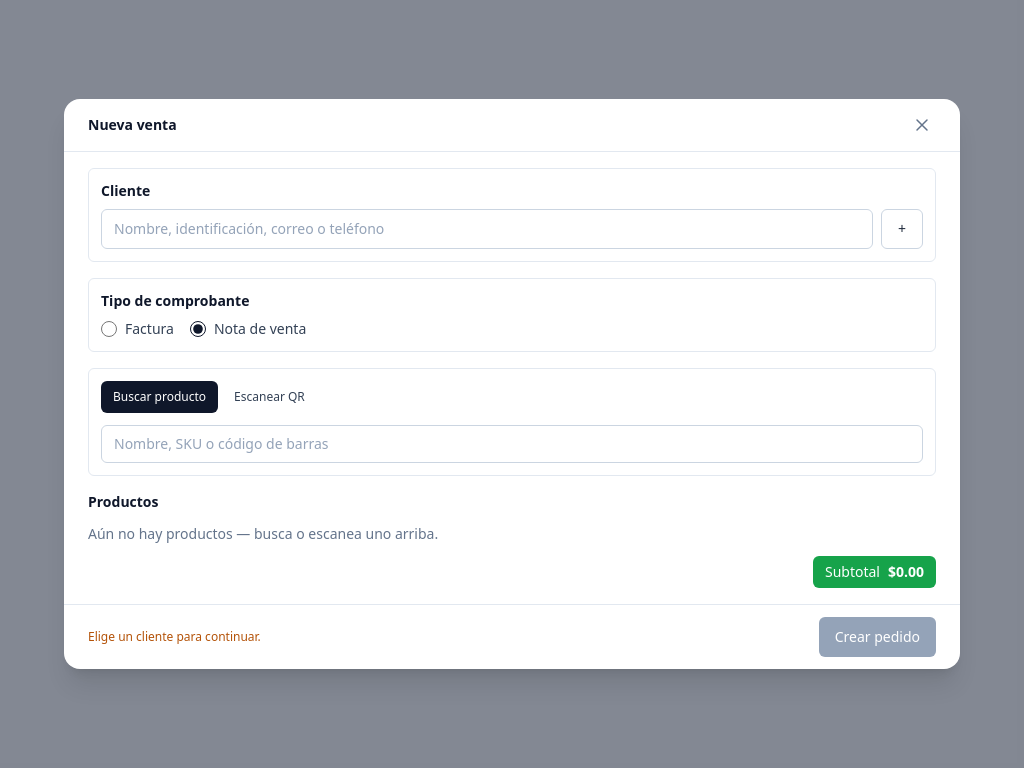
Test: ProductCartModal › cliente › the "+" button also opens "Crear nuevo cliente", prefilled with whatever is already typed
Type "0999999999" into the search field named "buscar cliente" at (487, 229), box [101,209,873,249]
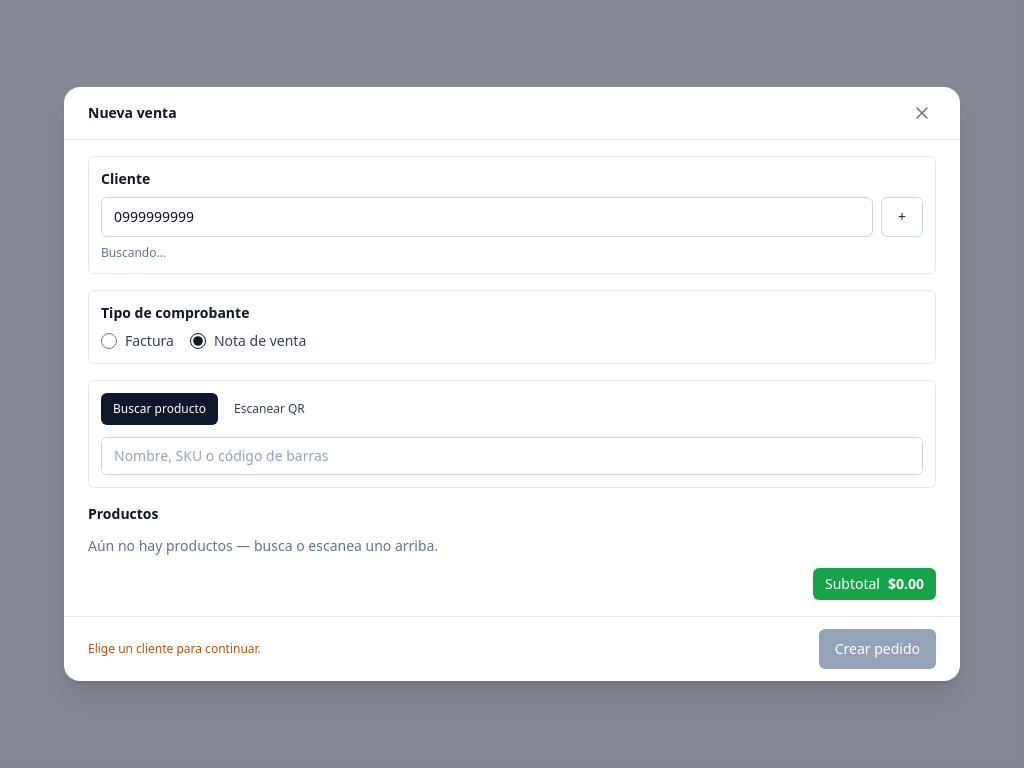
Click the button named "crear cliente nuevo" at (902, 217), box [881,197,923,237]
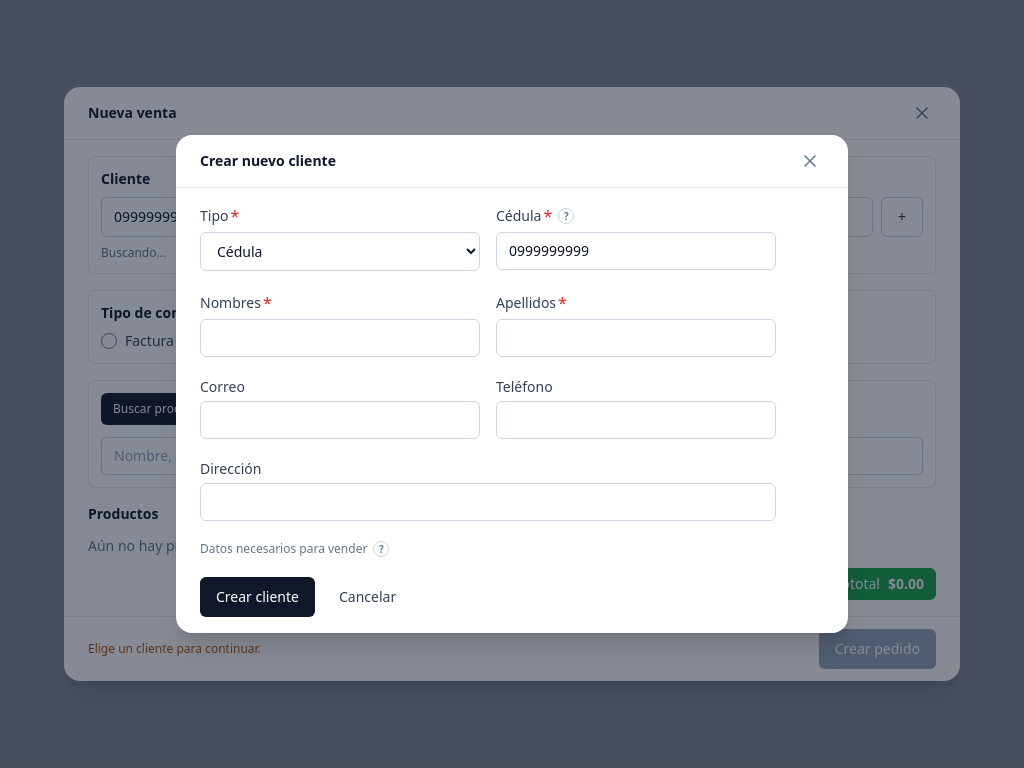
Now the dialog "Crear nuevo cliente" is shown, box [176,135,848,633]
Now the field labelled "Cédula" holds "0999999999", box [496,232,776,270]
